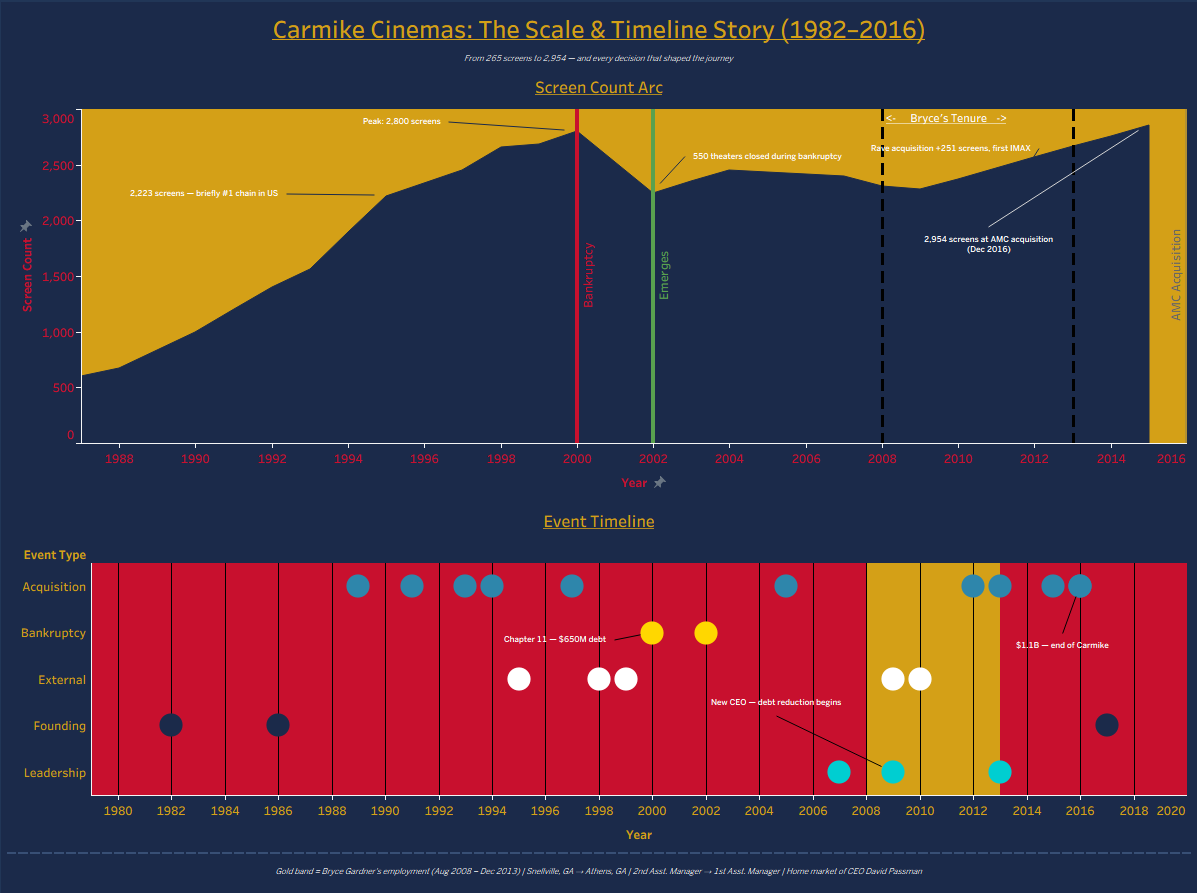

Layout of this report page (visuals, bound fields, positions):
{"tool":"tableau","page":{"name":"Carmike Cinemas: The Scale & Timeline Story (1982–2016)","canvas":[1000,1000],"units":"permille","ordinal":1},"visuals":[{"type":"title","box":[6.7,8.9,986.7,45.7]},{"type":"text","box":[6.7,54.6,986.7,21.2]},{"type":"worksheet","title":"Screen Count Arc","mark":"Area","rows":["screen_count"],"cols":["year"],"box":[6.7,75.8,986.7,483.4]},{"type":"worksheet","title":"Event Timeline","mark":"Circle","rows":["event_type"],"cols":["year"],"box":[6.7,559.2,986.7,392.2]},{"type":"text","box":[6.7,951.3,986.7,39.8]}]}

Visuals, with their boxes on the dashboard's canvas, which has no fixed pixel size, in thousandths of its width and height (x1, y1, x2, y2). These are canvas units, not pixel positions in the 1197x893 screenshot, which may show the page scaled, cropped or inside an application window:
title: (x1=7, y1=9, x2=993, y2=55)
text: (x1=7, y1=55, x2=993, y2=76)
"Screen Count Arc" worksheet (Area marks): (x1=7, y1=76, x2=993, y2=559)
"Event Timeline" worksheet (Circle marks): (x1=7, y1=559, x2=993, y2=951)
text: (x1=7, y1=951, x2=993, y2=991)
